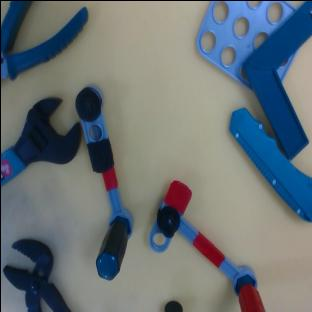non_pass: (54, 82, 145, 282)
pass: (127, 176, 277, 312)
